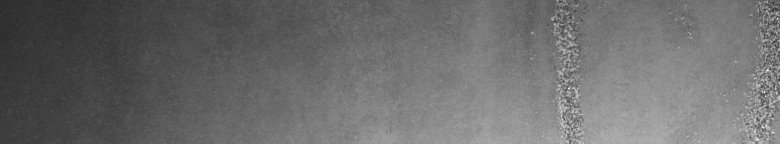hc: (675, 4, 776, 136)
